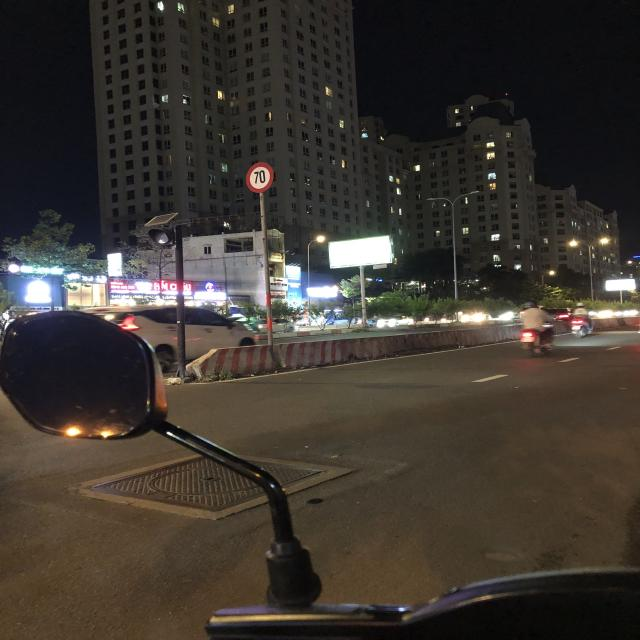Bien bao toc do toi da cho phep: (238, 160, 277, 192)
